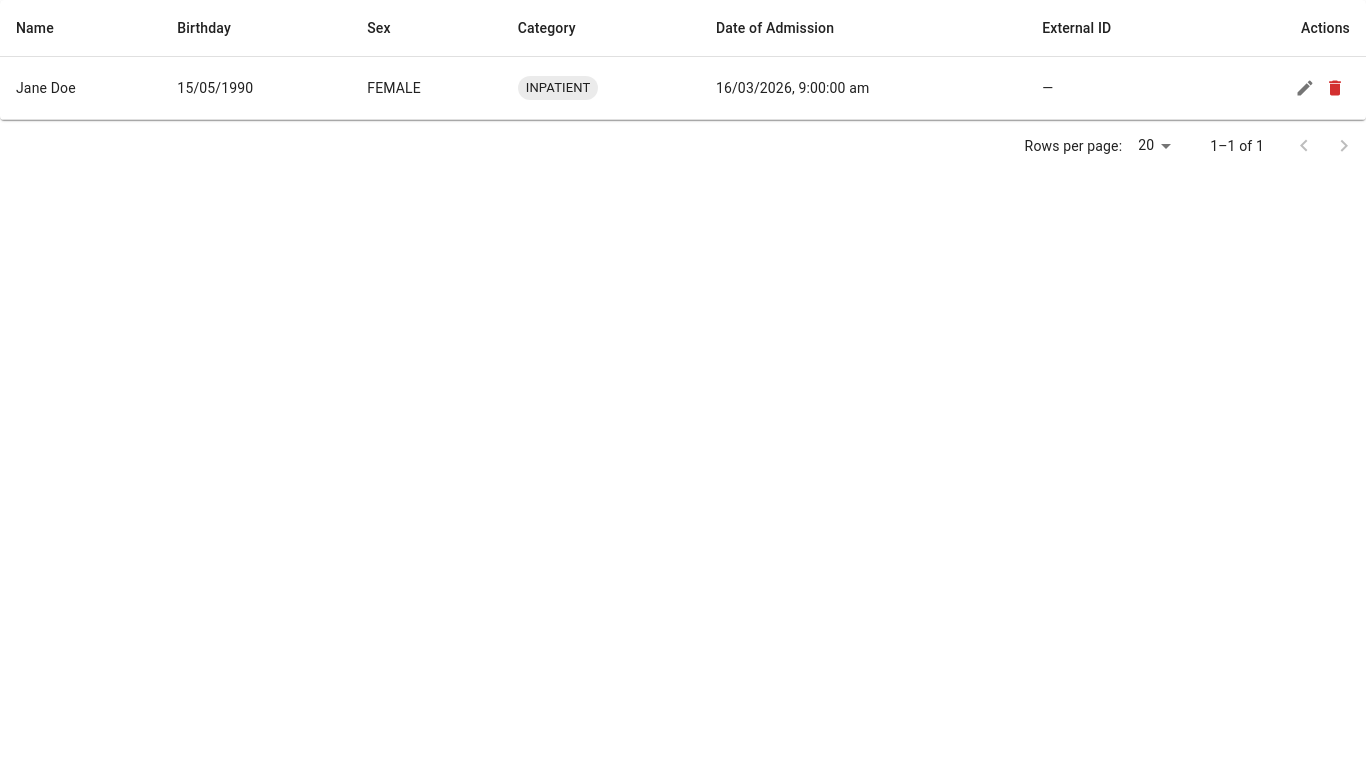
it: AdmissionTable › opens delete dialog when delete button clicked
Click the button named "delete Jane Doe". click: [1335, 88]
box: [1320,73,1350,103]
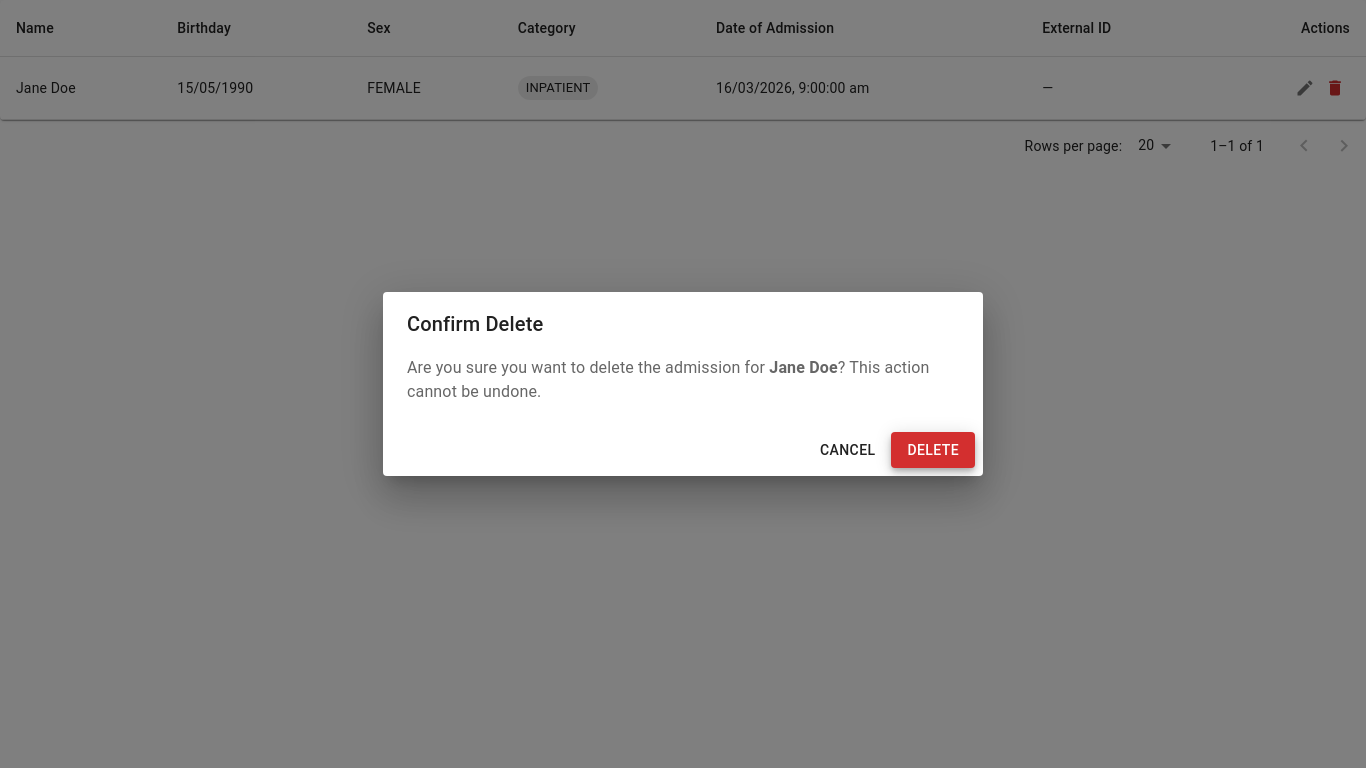
expect the heading "Confirm Delete" is shown: met, box [407,312,543,336]
